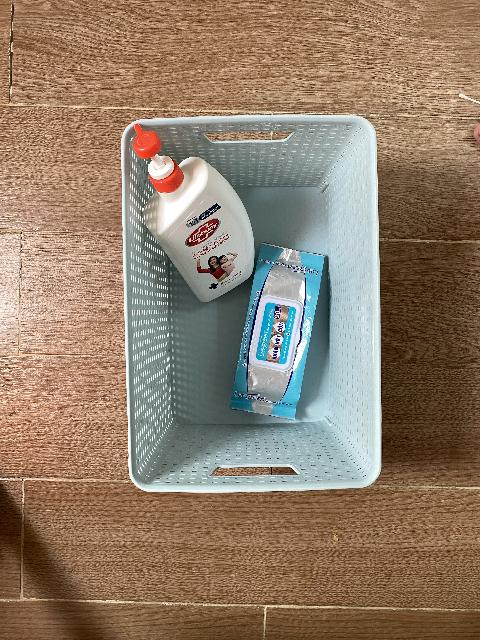Let-green_alcohol_wipes: (230, 242, 325, 423)
cart: (120, 114, 382, 495)
life-buoy: (132, 123, 255, 304)
